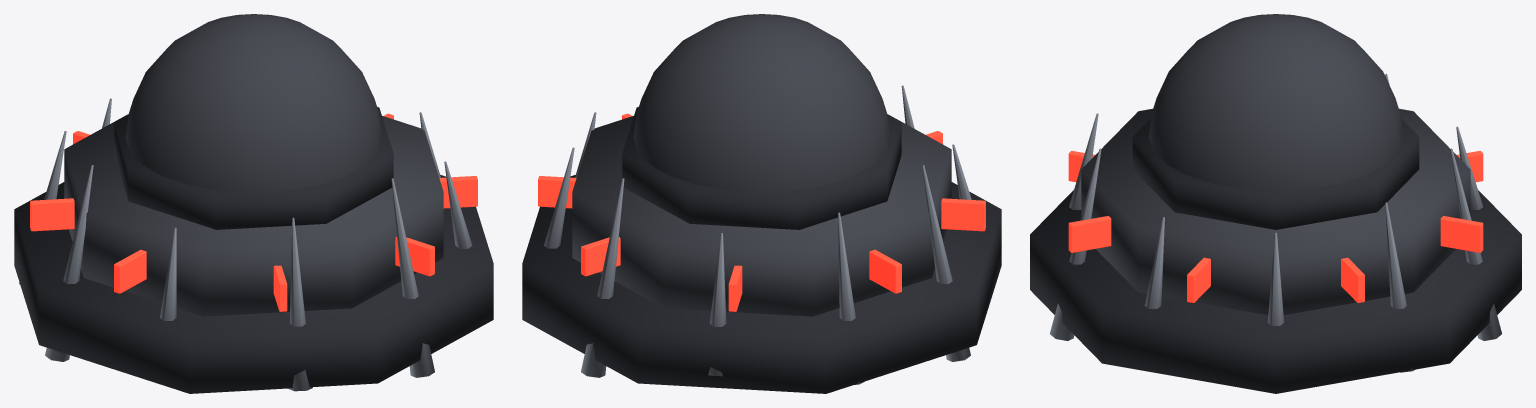
The model's file is nexus_red.glb.
3 views of the same model, side by side, from view 1: azimuth 30°, elevation 25°; view 2: azimuth 150°, elevation 25°; view 3: azimuth 270°, elevation 25° (orthographic).
Visible parts, largest first — view 1: part_mid, part_dark, part_light, part_glow; view 2: part_mid, part_dark, part_light, part_glow; view 3: part_mid, part_dark, part_light, part_glow.
Part boxes in pixels (x1,y1,x2,y2): part_mid: (64,14,443,316); part_dark: (14,107,493,393); part_light: (19,98,472,391); part_glow: (30,113,477,311); part_mid: (572,14,951,316); part_dark: (522,107,1001,393); part_light: (544,85,971,384); part_glow: (538,113,985,311); part_mid: (1081,14,1470,314); part_dark: (1030,118,1521,393); part_light: (1050,73,1501,372); part_glow: (1068,151,1483,302).
Size of the model in its own units: 4.8 by 3.05 by 4.8.
